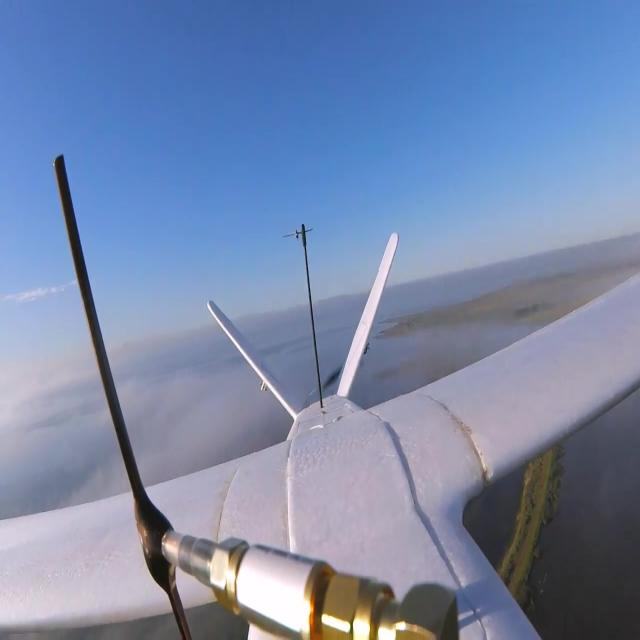iha: (281, 226, 314, 242)
